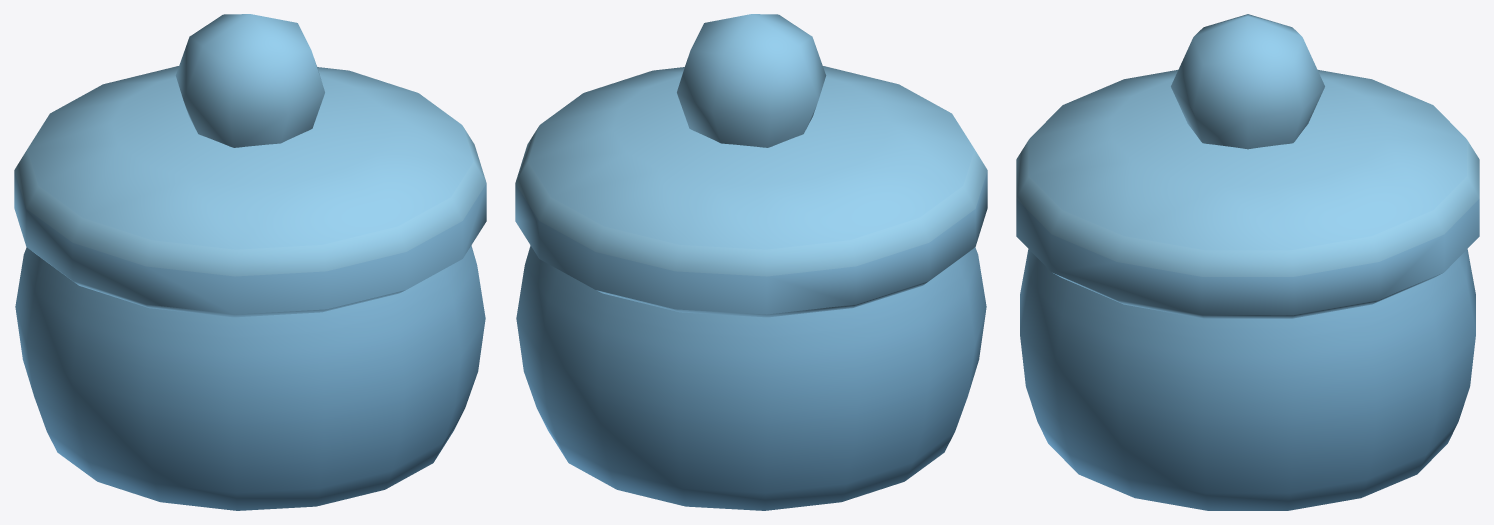
The model's file is Container Kitchen B-EKO6vOLQZd.glb.
3 views of the same model, side by side, from view 1: azimuth 30°, elevation 25°; view 2: azimuth 150°, elevation 25°; view 3: azimuth 270°, elevation 25° (orthographic).
Visible parts, largest first — view 1: container_kitchen_B_blue; view 2: container_kitchen_B_blue; view 3: container_kitchen_B_blue.
Part boxes in pixels (x1,y1,x2,y2): container_kitchen_B_blue: [14, 14, 486, 510]; container_kitchen_B_blue: [515, 14, 987, 510]; container_kitchen_B_blue: [1016, 14, 1479, 510].
Size of the model in its own units: 0.4 by 0.3995 by 0.4.
1 material, 1 textured.
